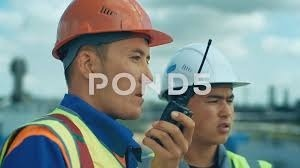helmet: (42, 1, 178, 62), (158, 40, 263, 99)
person with full safety: (23, 1, 171, 166), (163, 34, 278, 166)
safety vest: (14, 110, 125, 166), (147, 143, 268, 167)
